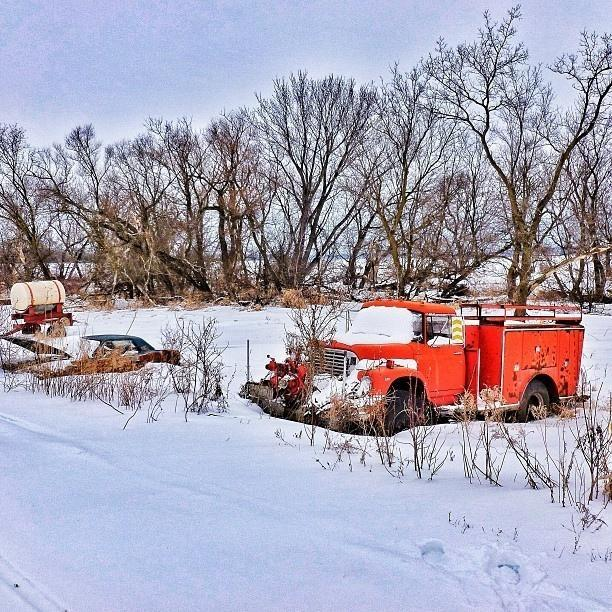car: (40, 335, 180, 376), (3, 336, 77, 374)
truck: (266, 294, 586, 433)
